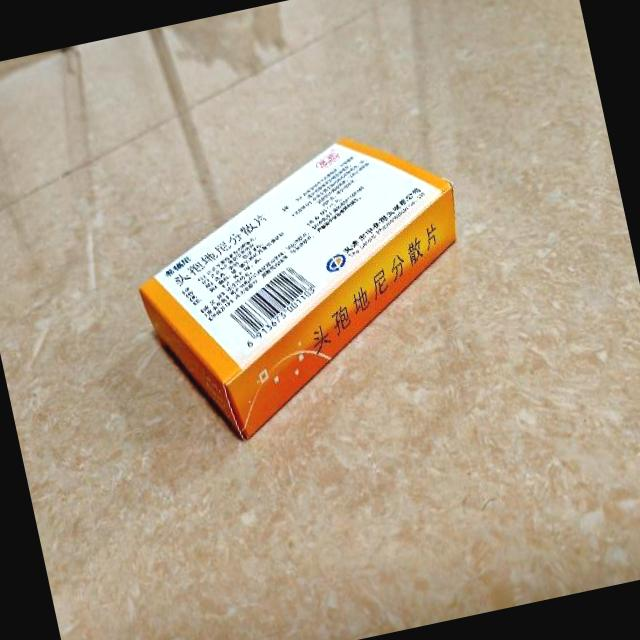box: (116, 118, 493, 456)
